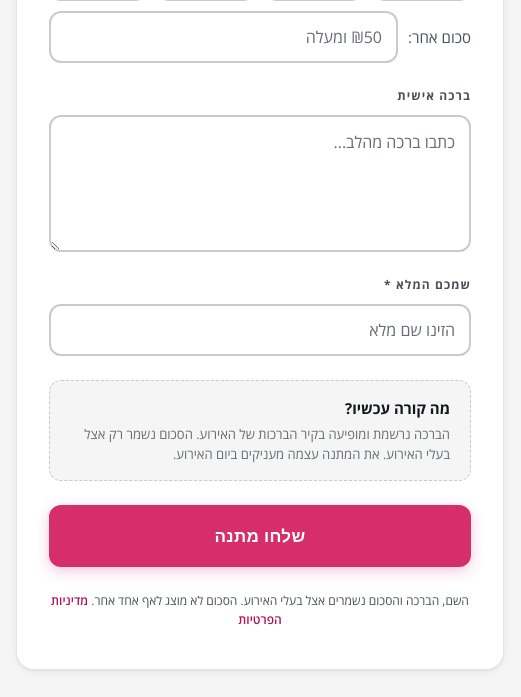
Scenario: gift errors a guest can act on › a rate limit says when to retry
(page scrolled)
Type "משפחת כהן" into the field labelled "שמכם המלא *".
click(260, 330); type("משפחת כהן")  # box left=49, top=304, right=471, bottom=356
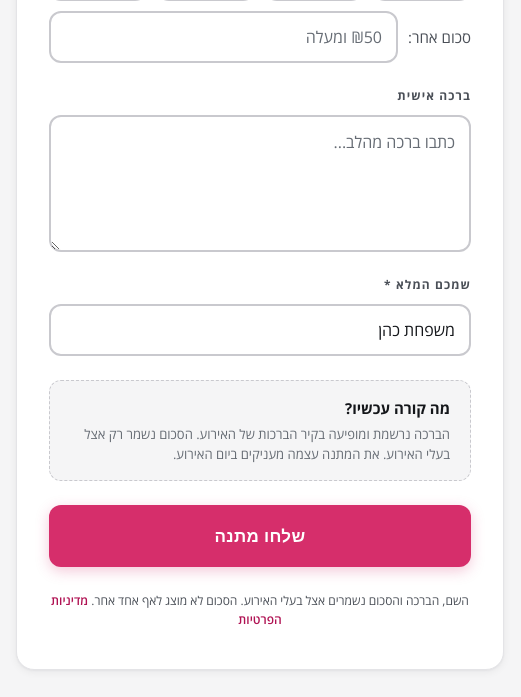
Type "360" into the number field labelled "סכום המתנה".
click(224, 37); type("360")  # box left=49, top=11, right=398, bottom=63
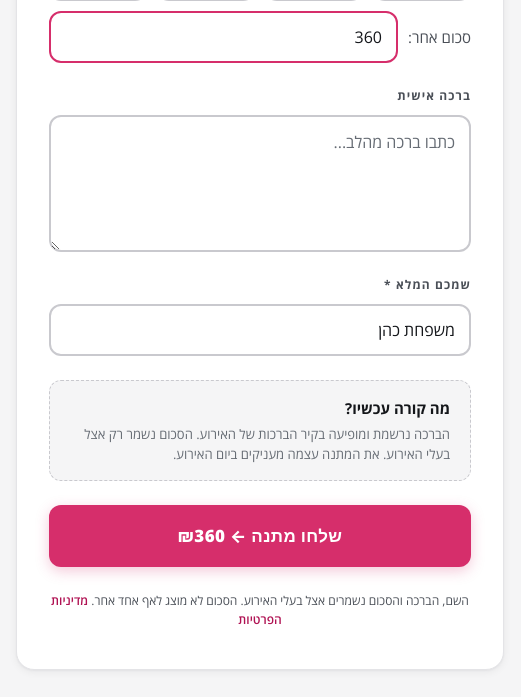
Click the button "שלחו מתנה ← ₪360".
click(260, 536)  # box left=49, top=505, right=471, bottom=566
(page scrolled)
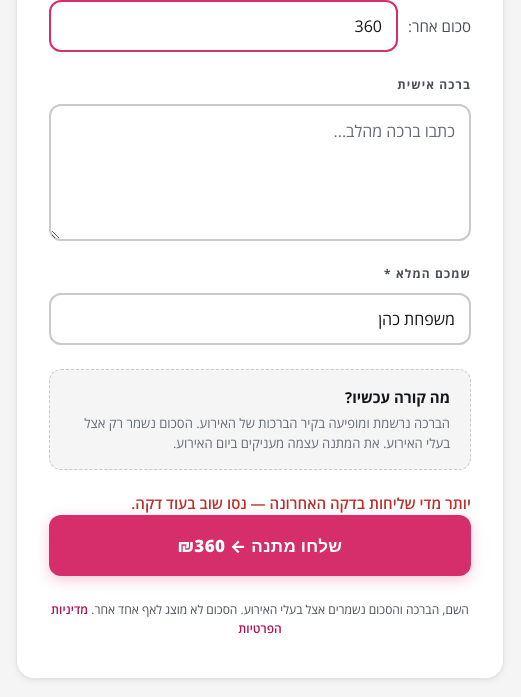
Expected: the text "יותר מדי שליחות בדקה האחרונה — נסו שוב בעוד דקה." is shown, left=131, top=493, right=471, bottom=513
